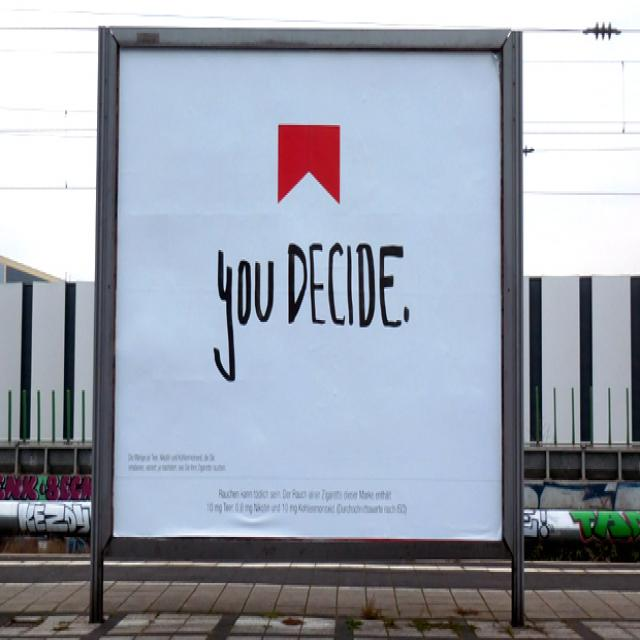Werbetafel frei: (104, 27, 520, 560)
